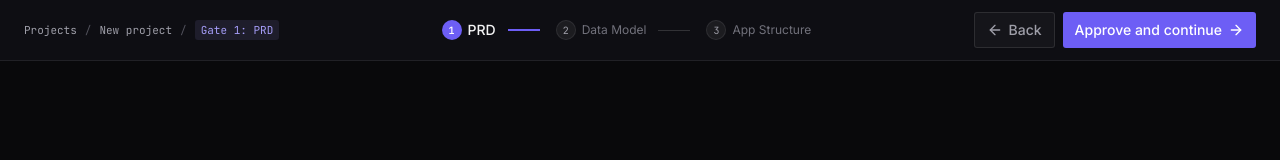
Test: SpecGateBar approval (the design is approved with the PRD) › stops and says why if an approval is refused, without moving on or trying the rest
Click the button "Approve and continue".
click(1159, 30)  # box [1063, 12, 1256, 48]
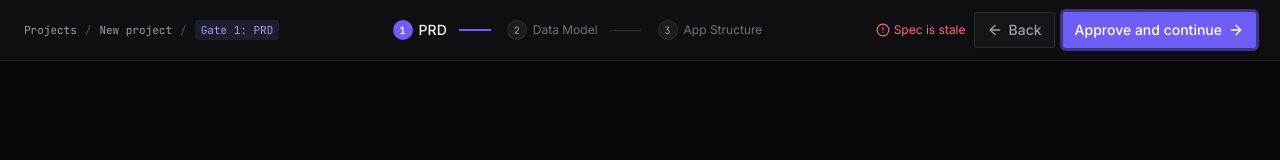
Result: the text "Spec is stale" is shown at [876, 22, 966, 38]
